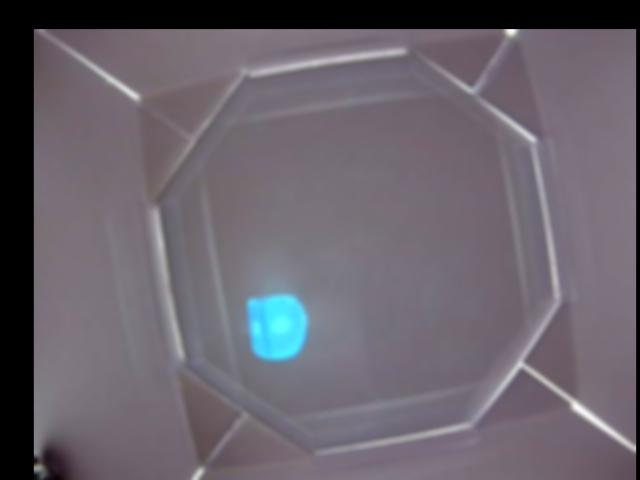Carrot: (246, 293, 304, 359)
